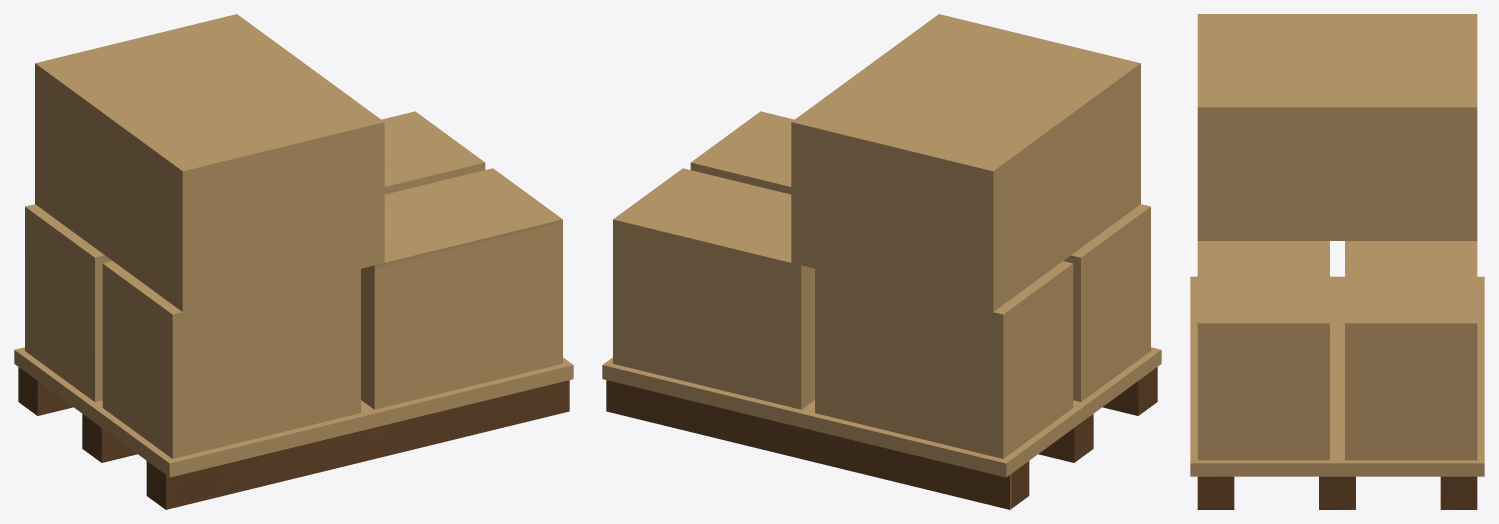
The model's file is paleta_a8c4122a.glb.
The picture shows the model from 3 angles, left to right: view 1: azimuth 30°, elevation 25°; view 2: azimuth 150°, elevation 25°; view 3: azimuth 270°, elevation 25°; orthographic projection. The views are drawn at different scales.
Visible parts, largest first — view 1: dum; view 2: dum; view 3: dum.
Boxes of the visible parts, box(x1,y1,x2,y2) form: dum: box(14, 14, 573, 509); dum: box(602, 14, 1161, 509); dum: box(1190, 14, 1484, 509).
Bounding box in the file's own units: 1.2 × 0.9476 × 0.798.
1 material, 1 textured.
